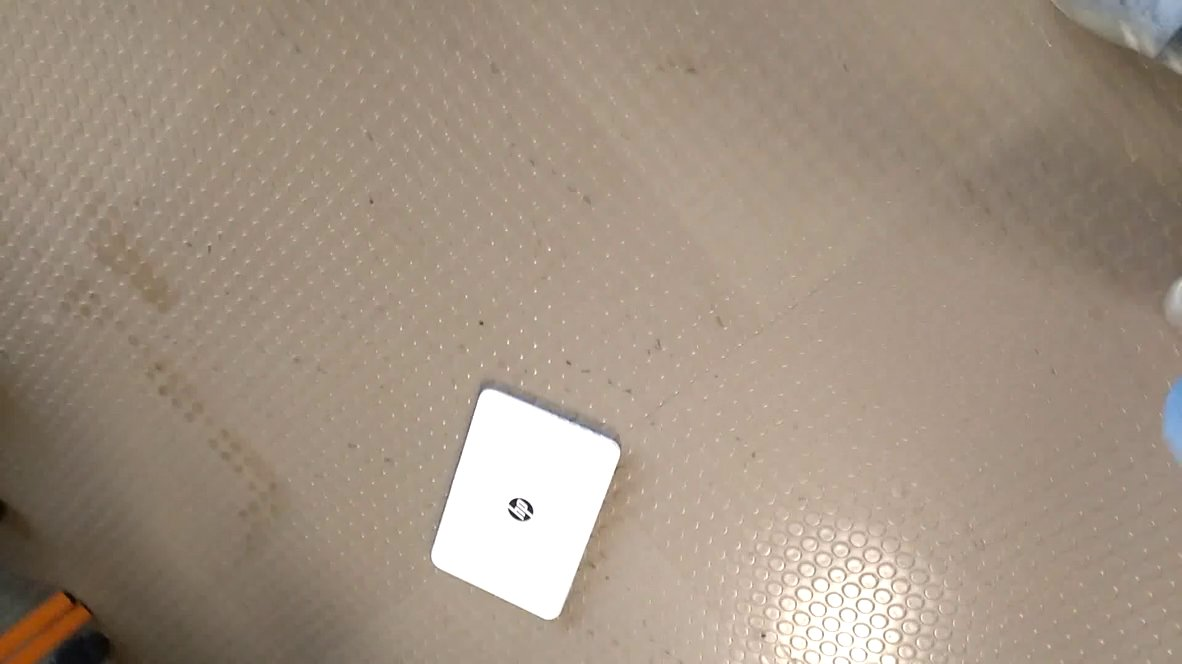laptop: (424, 375, 628, 633)
